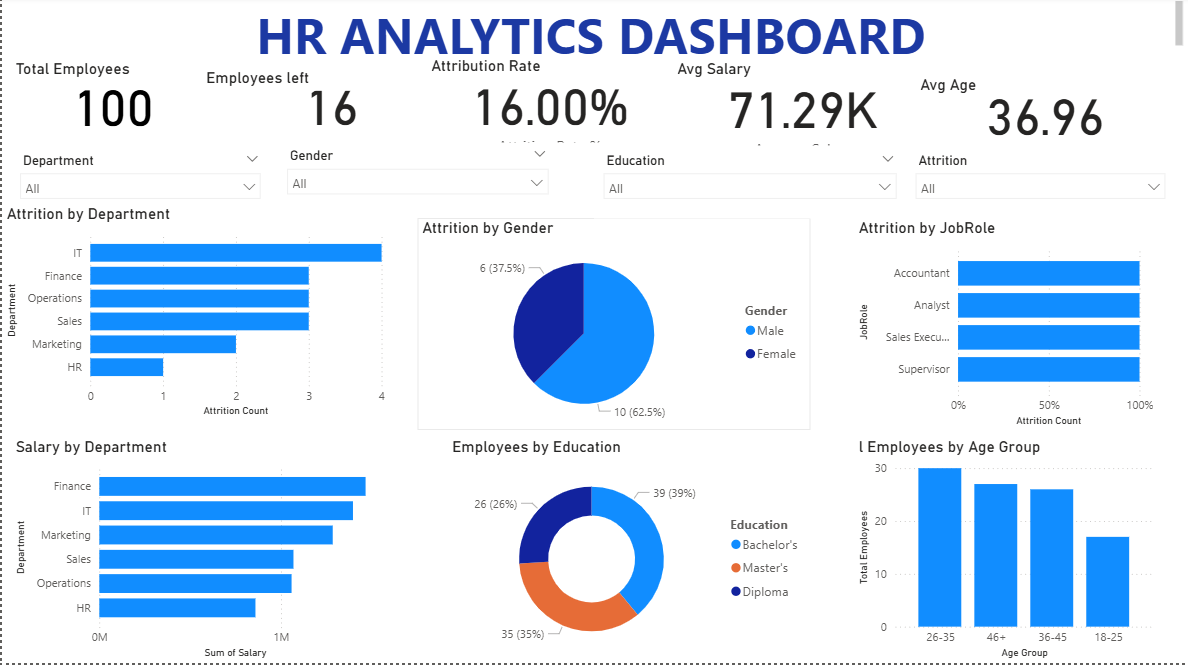

What the dashboard file says about the page in this screenshot:
{"tool":"powerbi","page":{"name":"Page 1","canvas":[1280,720],"ordinal":0},"visuals":[{"type":"card","title":"Total Employees","fields":{"Values":["HR_Analytics_Dataset.Total Employees"]},"box":[10.1,68.4,219.3,94.5],"z":0},{"type":"card","title":"Employees left","fields":{"Values":["HR_Analytics_Dataset.Attrition Count"]},"box":[215.2,78.5,279.6,72.4],"z":1},{"type":"card","title":"Attribution Rate","fields":{"Values":["HR_Analytics_Dataset.Attrition Rate %"]},"box":[458.6,64.4,265.5,98.6],"z":2},{"type":"card","title":"Avg Salary","fields":{"Values":["HR_Analytics_Dataset.Average Salary"]},"box":[724.2,68.4,279.6,98.6],"z":3},{"type":"card","title":"Avg Age","fields":{"Values":["HR_Analytics_Dataset.Average Age"]},"box":[985.7,86.5,279.6,78.5],"z":4},{"type":"clusteredBarChart","title":"Attrition by Department","fields":{"Category":["HR_Analytics_Dataset.Department"],"Y":["HR_Analytics_Dataset.Attrition Count"]},"box":[0,225.3,418.4,233.3],"z":5},{"type":"pieChart","title":"Attrition by Gender","fields":{"Y":["HR_Analytics_Dataset.Attrition Count"],"Category":["HR_Analytics_Dataset.Gender"]},"box":[448.6,239.4,424.4,229.3],"z":6},{"type":"clusteredBarChart","title":"Salary by Department","fields":{"Category":["HR_Analytics_Dataset.Department"],"Y":["Sum(HR_Analytics_Dataset.Salary)"]},"box":[10.1,476.7,408.3,243.4],"z":7},{"type":"donutChart","title":" Employees by Education","fields":{"Category":["HR_Analytics_Dataset.Education"],"Y":["HR_Analytics_Dataset.Total Employees"]},"box":[480.8,476.7,392.3,243.4],"z":8},{"type":"hundredPercentStackedBarChart","title":"Attrition by JobRole","fields":{"Category":["HR_Analytics_Dataset.JobRole"],"Y":["HR_Analytics_Dataset.Attrition Count"]},"box":[919.3,239.4,327.9,229.3],"z":9},{"type":"clusteredColumnChart","title":"l Employees by Age Group","fields":{"Category":["HR_Analytics_Dataset.Age Group"],"Y":["HR_Analytics_Dataset.Total Employees"]},"box":[919.3,476.7,327.9,243.4],"z":10},{"type":"slicer","fields":{"Values":["HR_Analytics_Dataset.Department"]},"box":[10.1,162.9,279.6,62.4],"z":11},{"type":"slicer","fields":{"Values":["HR_Analytics_Dataset.Gender"]},"box":[297.7,158.9,301.7,66.4],"z":12},{"type":"slicer","fields":{"Values":["HR_Analytics_Dataset.Education"]},"box":[639.7,162.9,335.9,76.4],"z":13},{"type":"slicer","fields":{"Values":["HR_Analytics_Dataset.Attrition"]},"box":[975.6,162.9,289.7,62.4],"z":14},{"type":"textbox","box":[0,0,1279.3,68.4],"z":15}]}

Visuals, with their boxes in screenshot pixels (x1, y1, x2, y2), scaled from the page's 1280x720 canvas onto the 1188x665 screenshot:
"Total Employees" card: left=9, top=63, right=213, bottom=150
"Employees left" card: left=200, top=73, right=459, bottom=139
"Attribution Rate" card: left=426, top=59, right=672, bottom=151
"Avg Salary" card: left=672, top=63, right=932, bottom=154
"Avg Age" card: left=915, top=80, right=1174, bottom=152
"Attrition by Department" clusteredBarChart: left=0, top=208, right=388, bottom=424
"Attrition by Gender" pieChart: left=416, top=221, right=810, bottom=433
"Salary by Department" clusteredBarChart: left=9, top=440, right=388, bottom=664
" Employees by Education" donutChart: left=446, top=440, right=810, bottom=664
"Attrition by JobRole" hundredPercentStackedBarChart: left=853, top=221, right=1158, bottom=433
"l Employees by Age Group" clusteredColumnChart: left=853, top=440, right=1158, bottom=664
slicer - HR_Analytics_Dataset.Department: left=9, top=150, right=269, bottom=208
slicer - HR_Analytics_Dataset.Gender: left=276, top=147, right=556, bottom=208
slicer - HR_Analytics_Dataset.Education: left=594, top=150, right=905, bottom=221
slicer - HR_Analytics_Dataset.Attrition: left=905, top=150, right=1174, bottom=208
textbox: left=0, top=0, right=1187, bottom=63
